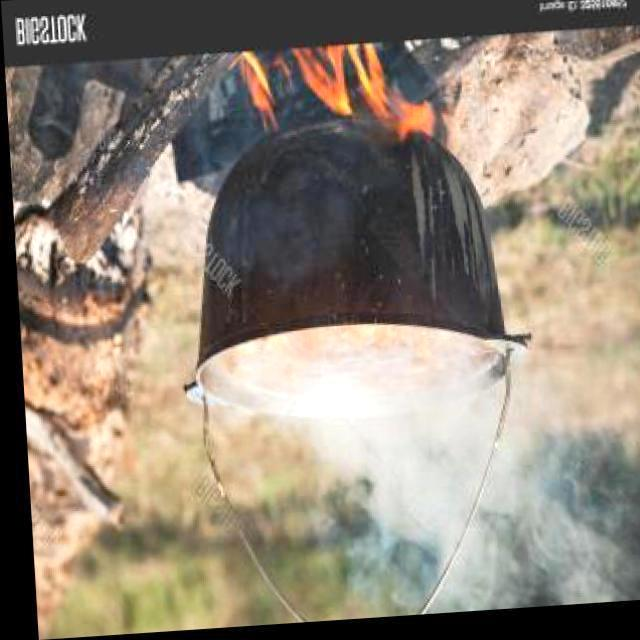fire: (280, 378, 640, 626), (228, 15, 444, 153)
